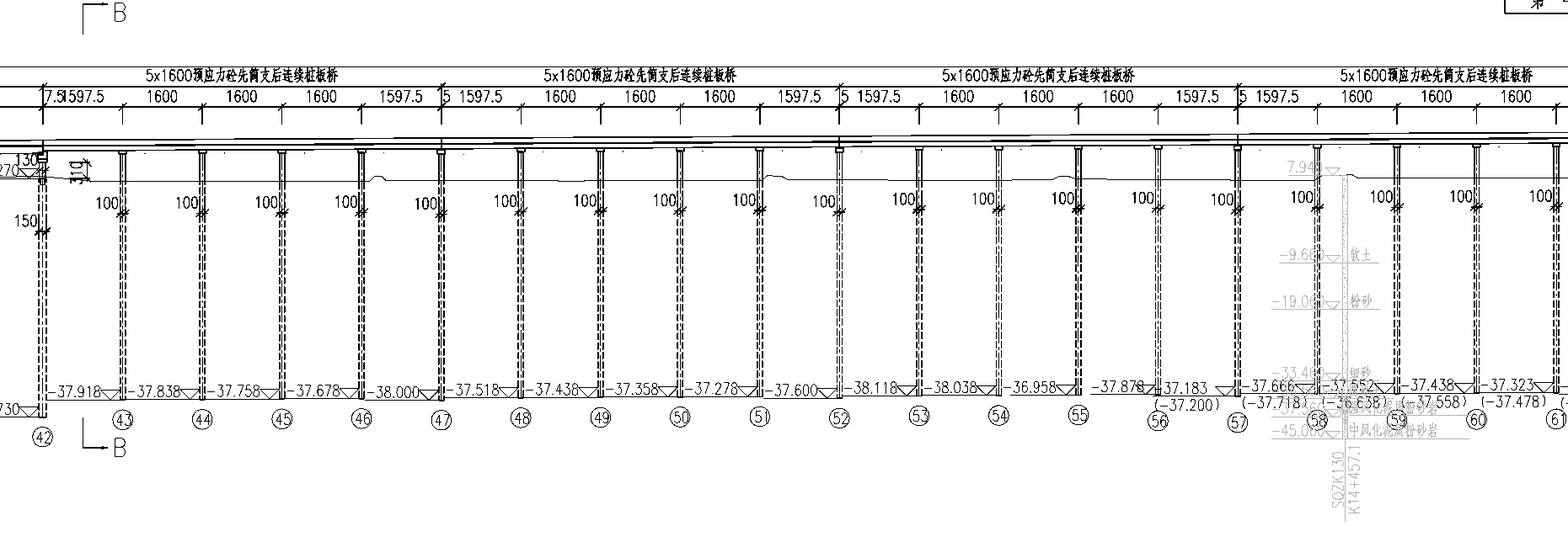B: (440, 57, 848, 103), (835, 57, 1248, 102), (38, 57, 448, 101)
C: (49, 146, 147, 435), (844, 141, 939, 432), (1404, 137, 1496, 433), (766, 136, 857, 433), (122, 141, 212, 433), (1005, 141, 1094, 433), (925, 141, 1013, 434), (446, 141, 532, 438), (366, 146, 452, 438), (209, 140, 292, 442), (1485, 136, 1568, 436), (288, 139, 372, 435), (1165, 147, 1248, 442), (528, 147, 613, 434), (607, 143, 690, 433), (687, 146, 768, 433), (1334, 141, 1410, 437), (1094, 147, 1169, 438), (1266, 139, 1336, 439), (1, 143, 62, 455)
